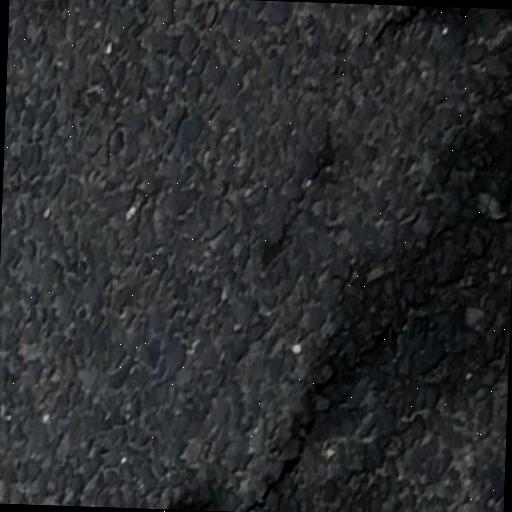spalling: (230, 264, 481, 512)
